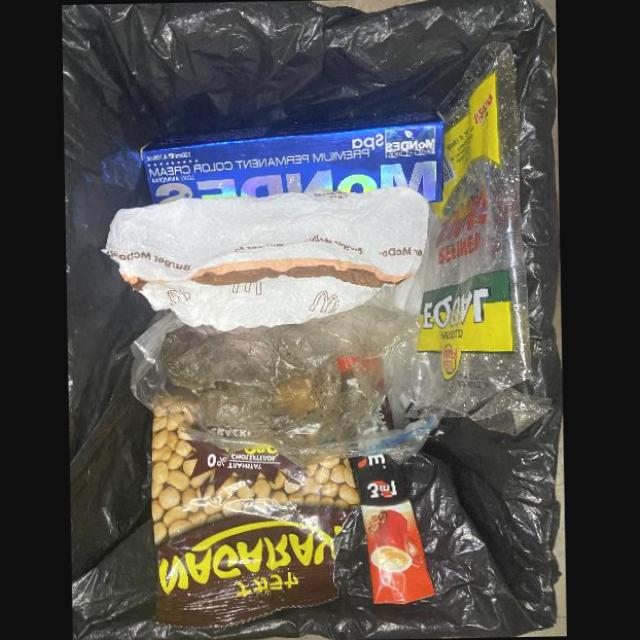bao_bi_thuc_pham: (388, 42, 555, 438), (151, 404, 359, 632), (349, 453, 435, 605), (336, 354, 383, 388)
carton: (140, 110, 444, 204)
giay: (103, 186, 431, 331)
tui_ni_long: (129, 305, 432, 467)
